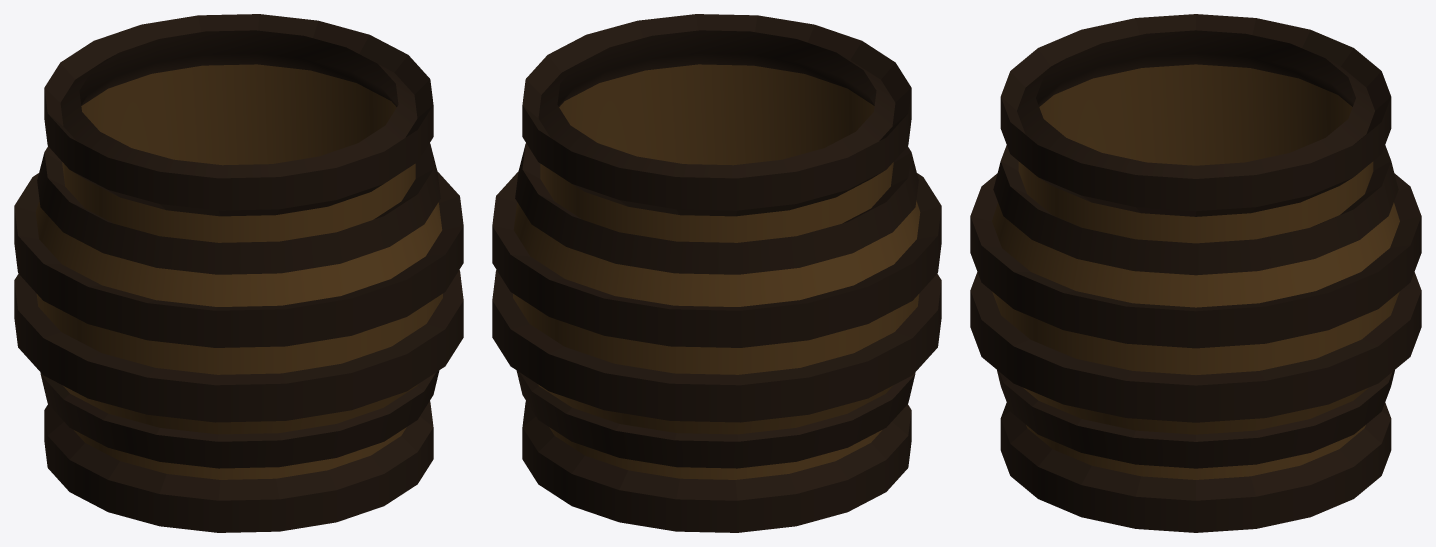
Rendered from Barrel.fbx.
3 renders of one model, left to right at view 1: azimuth 30°, elevation 25°; view 2: azimuth 150°, elevation 25°; view 3: azimuth 270°, elevation 25°, orthographic.
Visible parts, largest first — view 1: pCylinder1; view 2: pCylinder1; view 3: pCylinder1.
Boxes of the visible parts, box(x1,y1,x2,y2) form: pCylinder1: box(14, 14, 463, 532); pCylinder1: box(492, 14, 941, 532); pCylinder1: box(970, 14, 1421, 532).
Bounding box in the file's own units: 0.1497 × 0.1296 × 0.1497.
